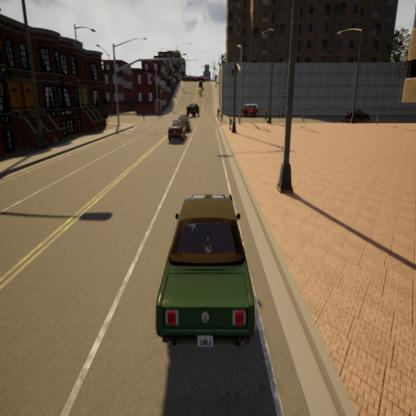Cars: (153, 183, 261, 362), (169, 120, 189, 147), (345, 108, 373, 124), (176, 114, 193, 134), (243, 101, 259, 120), (186, 101, 199, 119)
Pedestrian: (263, 105, 269, 125), (217, 109, 224, 123)
